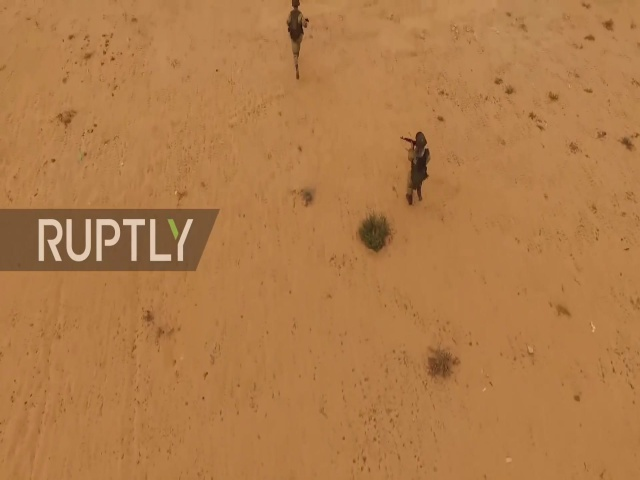person: (401, 127, 433, 208), (283, 1, 310, 82)
